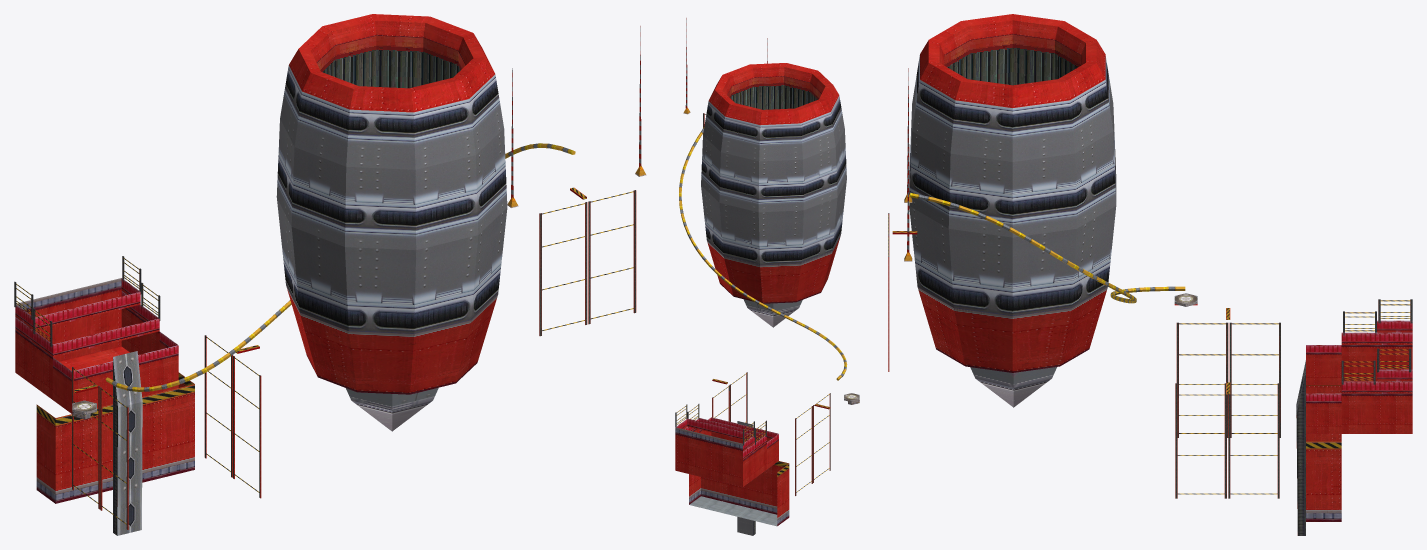
The picture shows the model from 3 angles, left to right: view 1: azimuth 30°, elevation 25°; view 2: azimuth 150°, elevation 25°; view 3: azimuth 270°, elevation 25°; orthographic projection. The views are drawn at different scales.
Parts seen in each view (by area): view 1: s13_on_12_8, s13_on_12_7, s13_on_12_2, s13_on_12_12, s13_on_12_13, s13_on_12_1, s13_on_12_4, s13_on_12_5, s13_on_12_0, s13_on_12_3; view 2: s13_on_12_8, s13_on_12_7, s13_on_12_2, s13_on_12_12, s13_on_12_0, s13_on_12_11, s13_on_12_5, s13_on_12_1, s13_on_12_4, s13_on_12_3; view 3: s13_on_12_8, s13_on_12_7, s13_on_12_2, s13_on_12_12, s13_on_12_1, s13_on_12_3, s13_on_12_5, s13_on_12_0.
Boxes of the visible parts, box(x1,y1,x2,y2) form: s13_on_12_8: box(276, 65, 507, 333); s13_on_12_7: box(15, 14, 497, 503); s13_on_12_2: box(72, 35, 636, 529); s13_on_12_12: box(15, 278, 178, 379); s13_on_12_13: box(113, 351, 142, 535); s13_on_12_1: box(15, 187, 633, 524); s13_on_12_4: box(73, 188, 634, 529); s13_on_12_5: box(346, 387, 438, 431); s13_on_12_0: box(105, 143, 575, 391); s13_on_12_3: box(14, 190, 635, 535); s13_on_12_8: box(701, 95, 846, 535); s13_on_12_7: box(675, 63, 840, 525); s13_on_12_2: box(703, 76, 830, 495); s13_on_12_12: box(676, 417, 778, 459); s13_on_12_0: box(679, 127, 847, 380); s13_on_12_11: box(689, 496, 777, 526); s13_on_12_5: box(743, 299, 802, 327); s13_on_12_1: box(676, 114, 829, 492); s13_on_12_4: box(704, 113, 830, 495); s13_on_12_3: box(675, 372, 830, 535); s13_on_12_8: box(909, 55, 1116, 315); s13_on_12_7: box(917, 14, 1412, 521); s13_on_12_2: box(944, 34, 1280, 498); s13_on_12_12: box(1306, 320, 1412, 401); s13_on_12_1: box(888, 215, 1410, 494); s13_on_12_3: box(888, 213, 1412, 535); s13_on_12_5: box(970, 367, 1056, 407); s13_on_12_0: box(909, 193, 1185, 303).
Bounding box in the file's own units: 1035 × 1382 × 1180.
16 materials, 16 textured.
